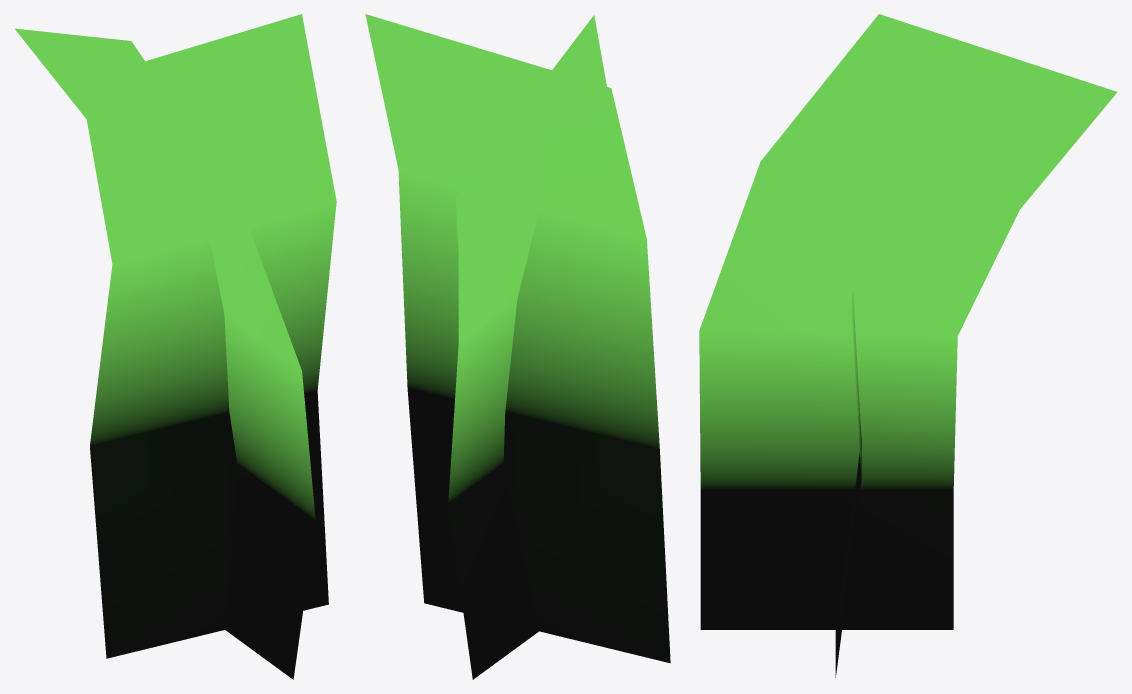
The model's file is Weed1V2.fbx.
3 views of the same model, side by side, from view 1: azimuth 30°, elevation 25°; view 2: azimuth 150°, elevation 25°; view 3: azimuth 270°, elevation 25° (orthographic). The views are drawn at different scales.
Visible parts, largest first — view 1: GrassBoard0.004; view 2: GrassBoard0.004; view 3: GrassBoard0.004.
Boxes of the visible parts, bbox=[...] form: GrassBoard0.004: bbox=[15, 14, 336, 679]; GrassBoard0.004: bbox=[365, 14, 670, 679]; GrassBoard0.004: bbox=[699, 14, 1117, 677].
Size of the model in its own units: 7.06 by 16.5 by 10.76.
